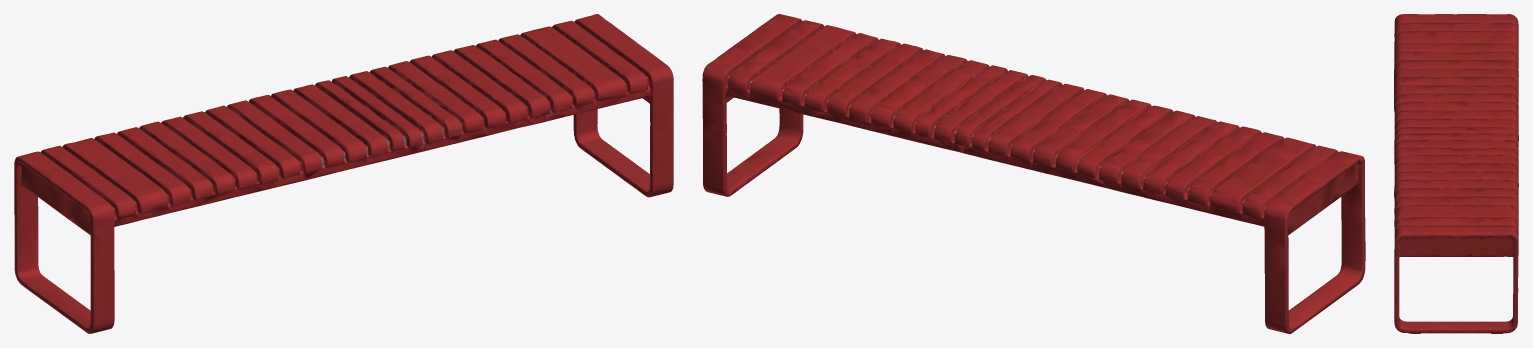
The model's file is bench2.glb.
3 views of the same model, side by side, from view 1: azimuth 30°, elevation 25°; view 2: azimuth 150°, elevation 25°; view 3: azimuth 270°, elevation 25° (orthographic). The views are drawn at different scales.
Visible parts, largest first — view 1: mesh_node; view 2: mesh_node; view 3: mesh_node.
Part boxes in pixels (x1,y1,x2,y2): mesh_node: (14, 14, 673, 333); mesh_node: (702, 14, 1365, 333); mesh_node: (1394, 14, 1518, 333).
Bounding box in the file's own units: 1.9 × 0.4096 × 0.4547.
1 material, 1 textured.
